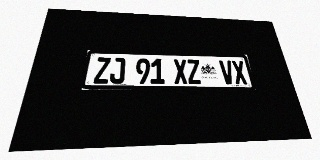1: (150, 58, 165, 84)
9: (136, 58, 150, 84)
J: (109, 58, 125, 84)
V: (219, 60, 235, 84)
X: (231, 60, 248, 84), (173, 59, 188, 84)
Z: (93, 57, 111, 84), (186, 59, 202, 84)
